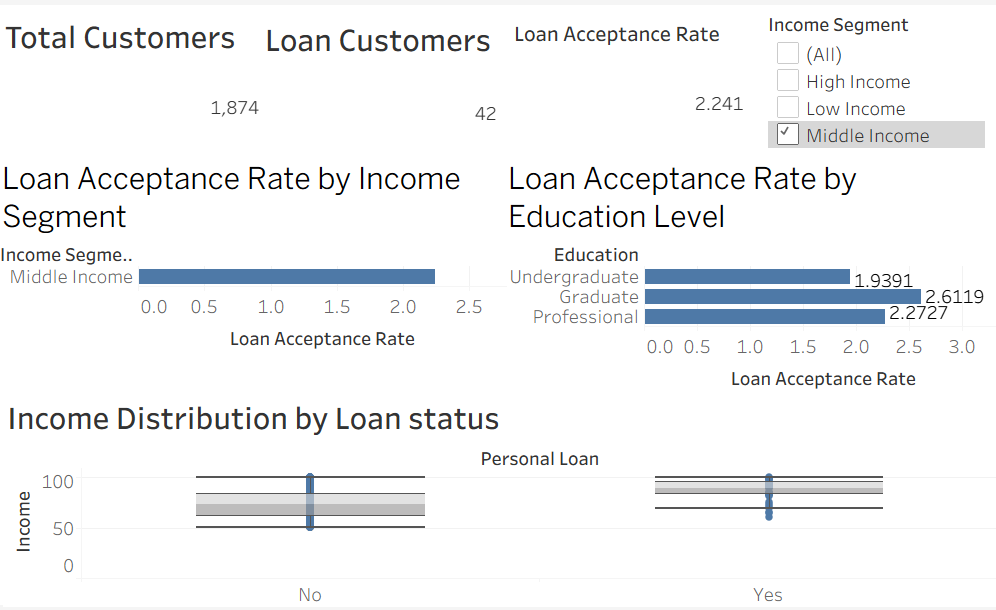

This screenshot's page, from the dashboard's own definition file:
{"tool":"tableau","page":{"name":"Credit Risk & Personal Loan Exposure – Executive Dashboard","canvas":[1000,600],"ordinal":0},"visuals":[{"type":"worksheet","title":"Sheet 4","mark":"Text","box":[1,6,262,136]},{"type":"filter","title":"Sheet 4","param":"[federated.1skoty71kwa6qm1ggbrz10yncnrp].[none:Income_Segment:nk]","box":[768,6,217,137]},{"type":"worksheet","title":"Sheet 5","mark":"Automatic","box":[261,9,239,141]},{"type":"worksheet","title":"Sheet 6","mark":"Automatic","box":[510,10,237,132]},{"type":"worksheet","title":"Sheet 2","mark":"Automatic","rows":["Education"],"cols":["Calculation_1847756021620736"],"box":[504,150,499,263]},{"type":"worksheet","title":"Sheet 3","mark":"Circle","rows":["Income"],"cols":["Personal_Loan"],"box":[3,387,995,215]}]}

Visuals, with their boxes in screenshot pixels (x1, y1, x2, y2), scaled from the page's 1000x600 canvas onto the 996x610 screenshot:
"Sheet 4" worksheet (Text marks): box(1, 6, 262, 144)
"Sheet 4" filter: box(765, 6, 981, 145)
"Sheet 5" worksheet: box(260, 9, 498, 152)
"Sheet 6" worksheet: box(508, 10, 744, 144)
"Sheet 2" worksheet: box(502, 152, 995, 420)
"Sheet 3" worksheet (Circle marks): box(3, 393, 994, 609)
